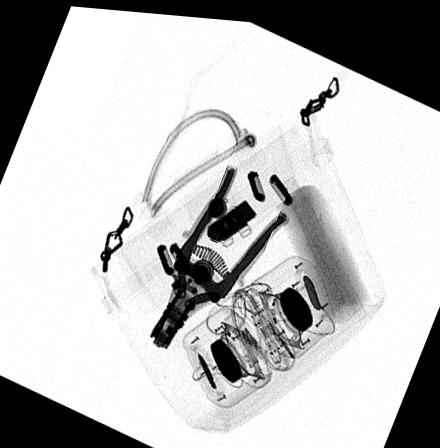Pliers: (147, 161, 290, 349)
